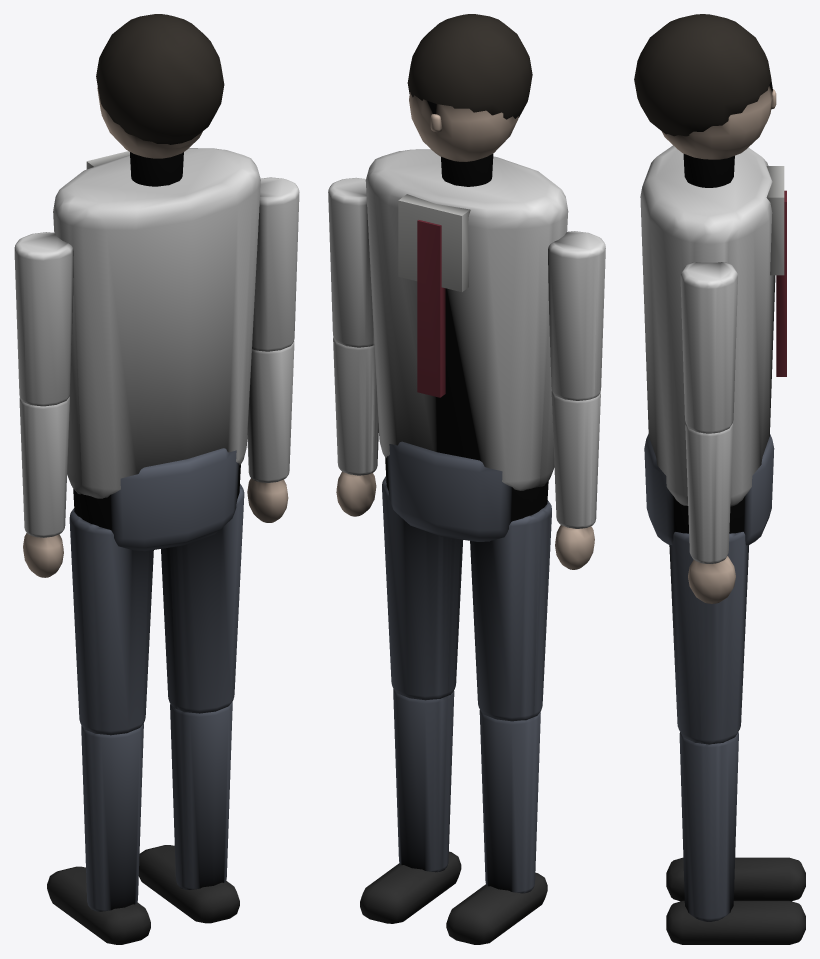
File: person.glb
3 views of the same model, side by side, from view 1: azimuth 30°, elevation 25°; view 2: azimuth 150°, elevation 25°; view 3: azimuth 270°, elevation 25° (orthographic). The views are drawn at different scales.
Visible parts, largest first — view 1: Torso, LegMeshL, LegMeshR, ArmMeshL, HeadMesh, ArmMeshR; view 2: Torso, LegMeshL, LegMeshR, ArmMeshL, HeadMesh, ArmMeshR; view 3: Torso, LegMeshR, HeadMesh, ArmMeshR, LegMeshL.
Part boxes in pixels (x1=…): Torso: x1=53, y1=148, x2=260, y2=551; LegMeshL: x1=47, y1=508, x2=153, y2=944; LegMeshR: x1=139, y1=484, x2=244, y2=923; ArmMeshL: x1=14, y1=232, x2=73, y2=577; HeadMesh: x1=96, y1=14, x2=224, y2=186; ArmMeshR: x1=247, y1=177, x2=299, y2=522; Torso: x1=365, y1=149, x2=568, y2=541; LegMeshL: x1=446, y1=500, x2=551, y2=944; LegMeshR: x1=360, y1=476, x2=462, y2=923; ArmMeshL: x1=548, y1=231, x2=605, y2=569; HeadMesh: x1=407, y1=14, x2=532, y2=186; ArmMeshR: x1=328, y1=177, x2=378, y2=516; Torso: x1=640, y1=145, x2=786, y2=545; LegMeshR: x1=666, y1=532, x2=805, y2=944; HeadMesh: x1=634, y1=14, x2=776, y2=187; ArmMeshR: x1=680, y1=262, x2=737, y2=603; LegMeshL: x1=666, y1=857, x2=805, y2=901.
Size of the model in its own units: 0.5948 by 1.85 by 0.3201.
